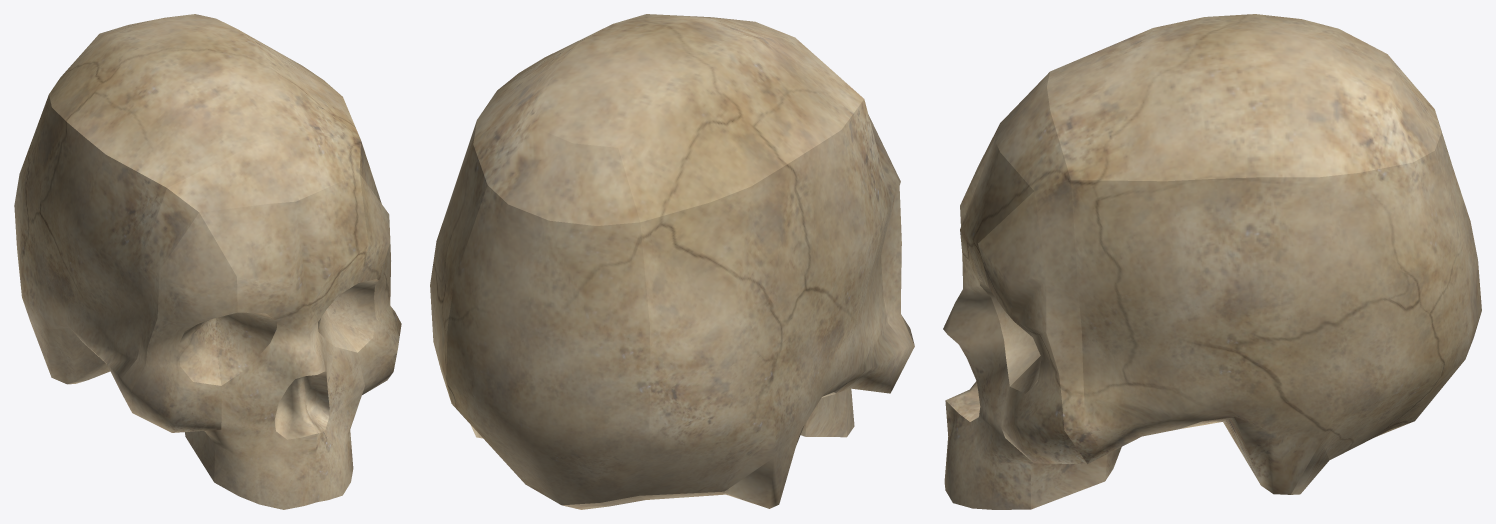
Rendered from SkullHead.fbx.
3 renders of one model, left to right at view 1: azimuth 30°, elevation 25°; view 2: azimuth 150°, elevation 25°; view 3: azimuth 270°, elevation 25°, orthographic. The views are drawn at different scales.
Visible parts, largest first — view 1: SkullHead; view 2: SkullHead; view 3: SkullHead.
Part boxes in pixels (<box>): SkullHead: <box>14,14,401,509</box>; SkullHead: <box>430,14,914,509</box>; SkullHead: <box>943,14,1481,509</box>.
Bounding box in the file's own units: 31.4 × 40.14 × 43.21.
